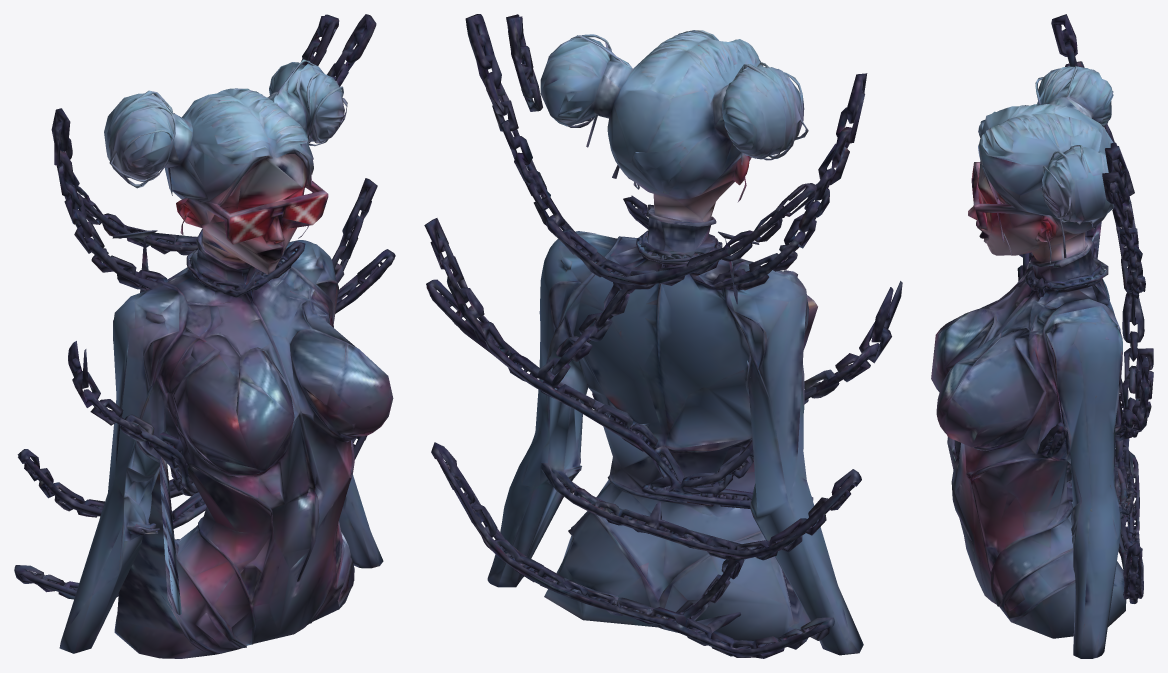
3 renders of one model, left to right at view 1: azimuth 30°, elevation 25°; view 2: azimuth 150°, elevation 25°; view 3: azimuth 270°, elevation 25°, orthographic. The views are drawn at different scales.
Parts seen in each view (by area): view 1: node_0; view 2: node_0; view 3: node_0.
Part boxes in pixels (<box>): node_0: <box>14,14,395,658</box>; node_0: <box>424,14,902,658</box>; node_0: <box>931,14,1153,658</box>.
Size of the model in its own units: 0.7438 by 0.9883 by 0.4012.
Materials: 1 (1 with a texture image).
